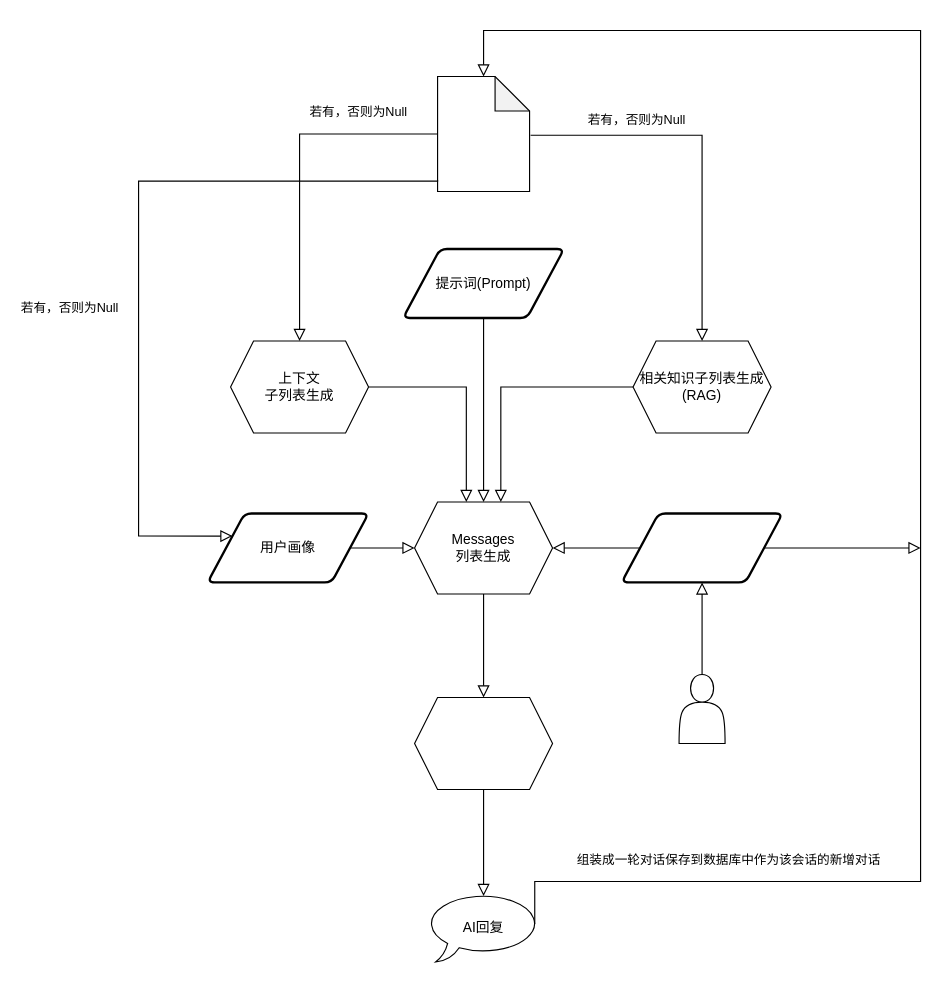
This 952x982 diagram has some shape labels left out. Each missing label, with the centre of its shape:
"SQL数据库" belongs at [483,133].
"用户当前输入语句" belongs at [701,547].
"调用API" belongs at [483,742].
